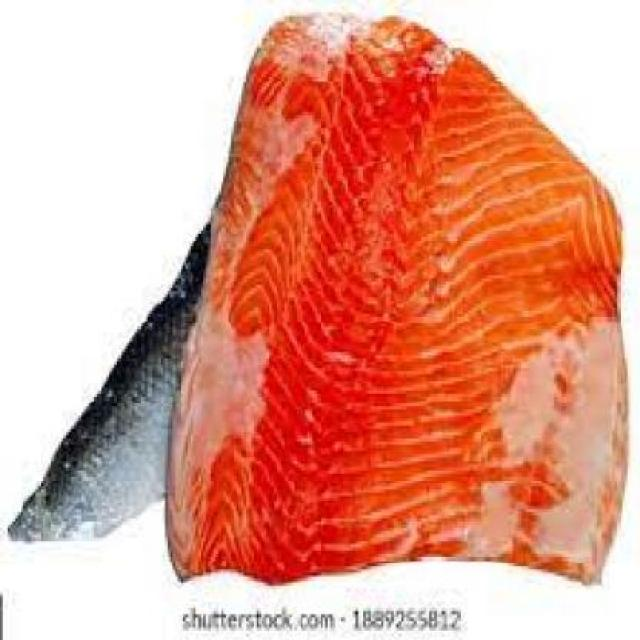salmon: (149, 3, 635, 605)
